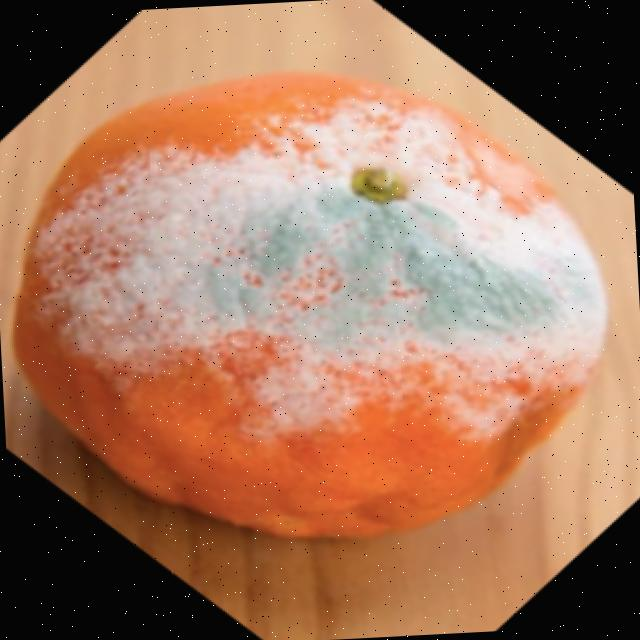Rotten: (0, 52, 622, 555)
